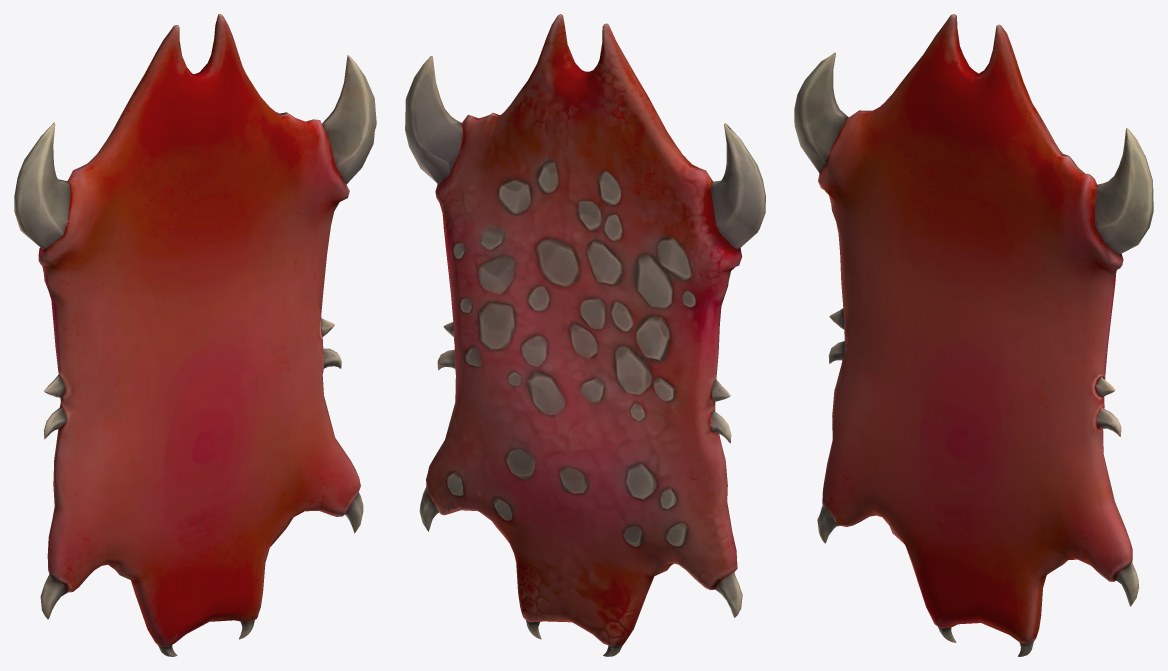
3 renders of one model, left to right at view 1: azimuth 30°, elevation 25°; view 2: azimuth 150°, elevation 25°; view 3: azimuth 330°, elevation 25°, orthographic.
Visible parts, largest first — view 1: SM_RedDragon_Leather_01_LOD0; view 2: SM_RedDragon_Leather_01_LOD0; view 3: SM_RedDragon_Leather_01_LOD0.
Boxes of the visible parts, left/top/right/bottom form: SM_RedDragon_Leather_01_LOD0: left=14, top=14, right=376, bottom=656; SM_RedDragon_Leather_01_LOD0: left=405, top=14, right=765, bottom=656; SM_RedDragon_Leather_01_LOD0: left=794, top=14, right=1153, bottom=656.
Bounding box in the file's own units: 0.5761 × 0.9673 × 0.0844.
1 material, 1 textured.
